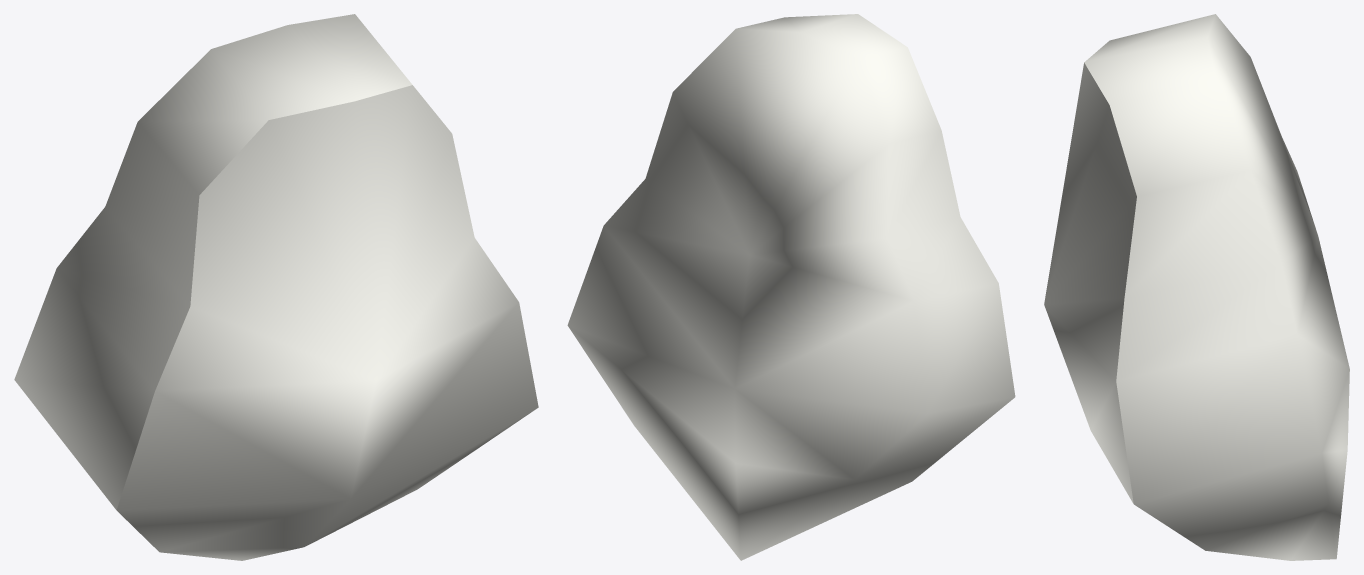
Rendered from Beard_White_2.fbx.
The picture shows the model from 3 angles, left to right: view 1: azimuth 30°, elevation 25°; view 2: azimuth 150°, elevation 25°; view 3: azimuth 270°, elevation 25°; orthographic projection. The views are drawn at different scales.
Visible parts, largest first — view 1: Beard_White_2; view 2: Beard_White_2; view 3: Beard_White_2.
Boxes of the visible parts, left/top/right/bottom form: Beard_White_2: left=14, top=14, right=538, bottom=560; Beard_White_2: left=567, top=14, right=1015, bottom=560; Beard_White_2: left=1044, top=14, right=1349, bottom=560.
Bounding box in the file's own units: 9.51 × 12.25 × 6.48.
